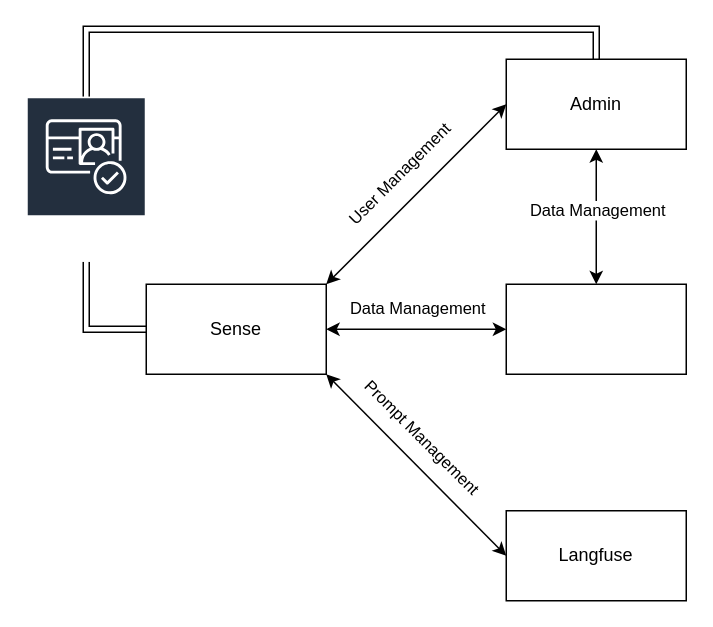
This 713x627 diagram has some shape labels left out. The shapes that lost their labels are listed below. From the top down, each one's box as (x1, y1, x2, y2) in pixels, then its label:
(25, 95, 146, 262): Amazon Cognito
(505, 283, 686, 374): Metabase
